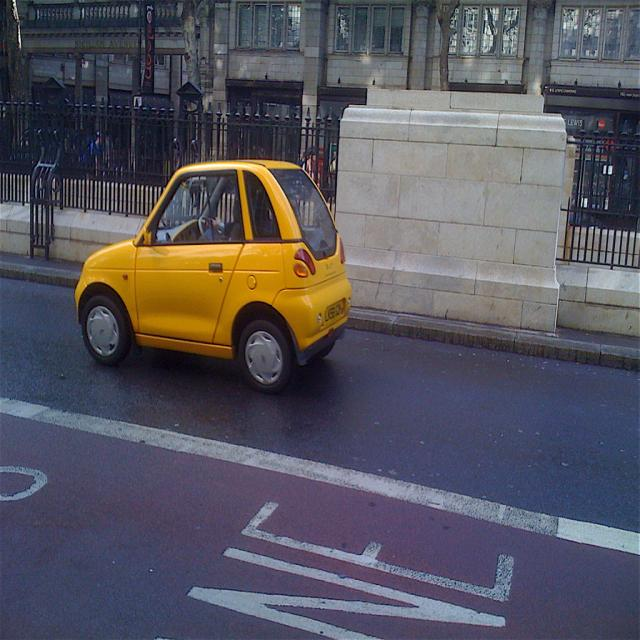car: (74, 153, 354, 393)
